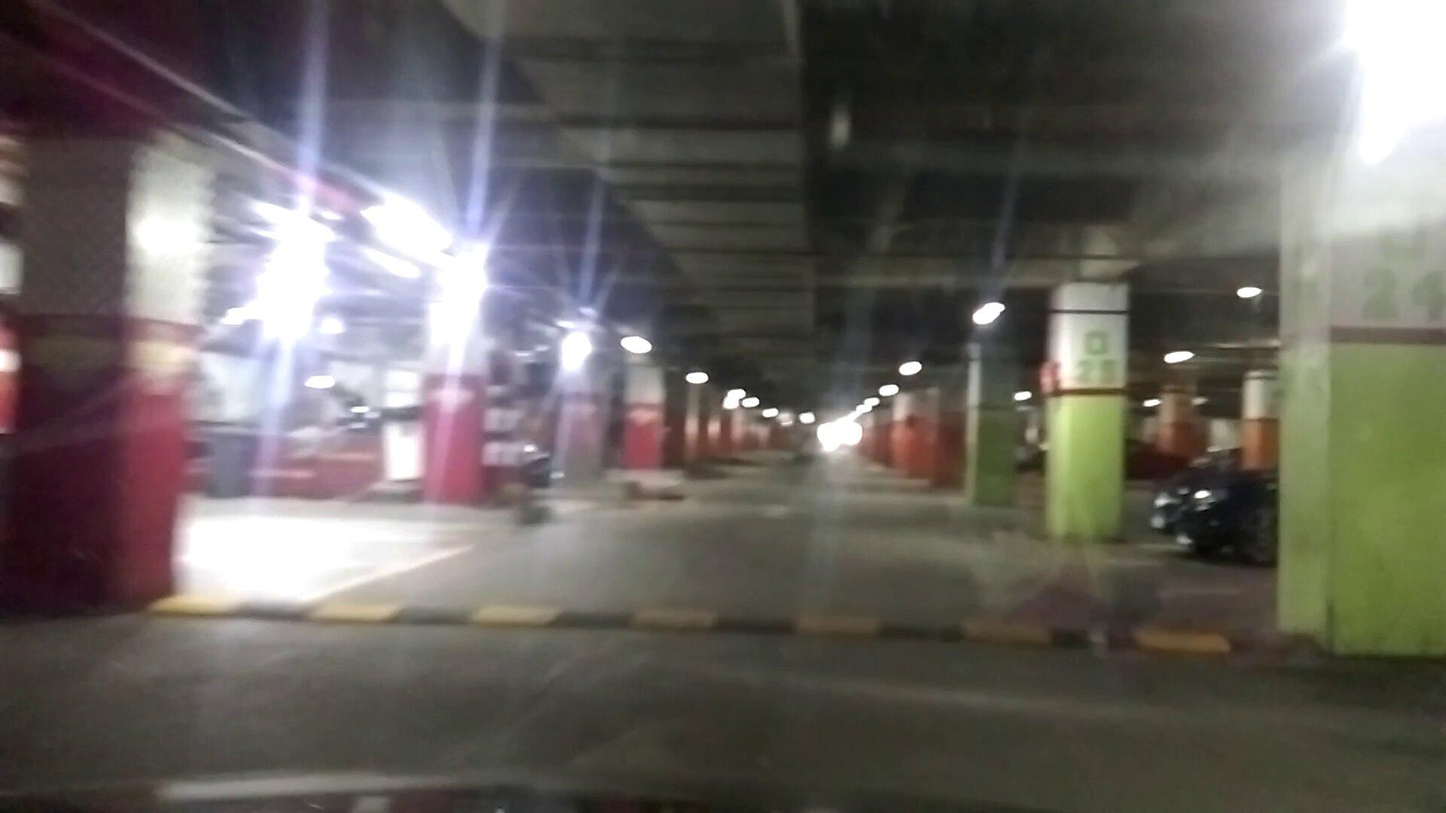Bump: (171, 587, 1292, 661)
